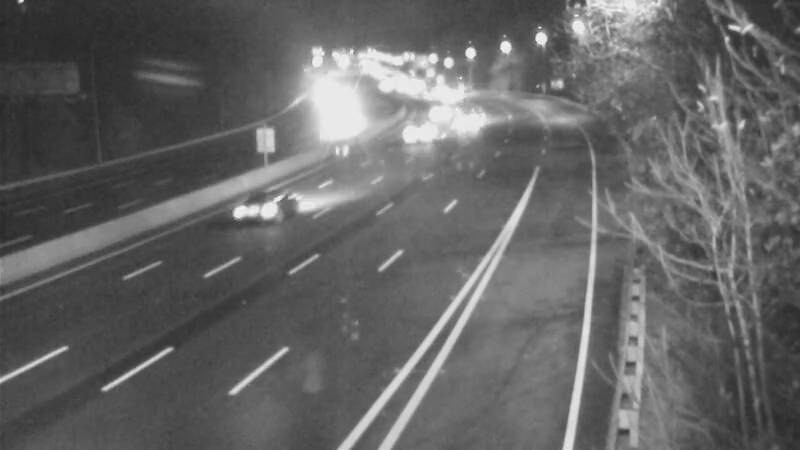vehicle: (224, 169, 304, 249), (418, 86, 468, 136), (440, 100, 490, 150), (394, 109, 444, 159), (310, 101, 360, 151)
